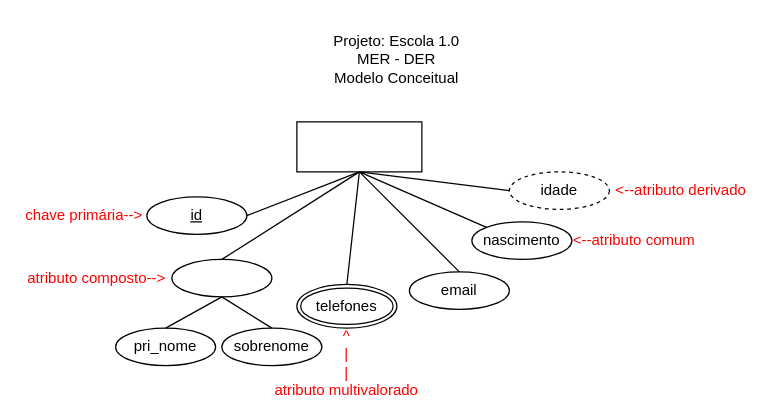
The diagram is 774 pixels wide and 420 high, and some of its shapes have lost their labels. Each missing label, with the centre of its shape:
"Aluno" belongs at pixel 359 146.
"nome" belongs at pixel 221 277.
